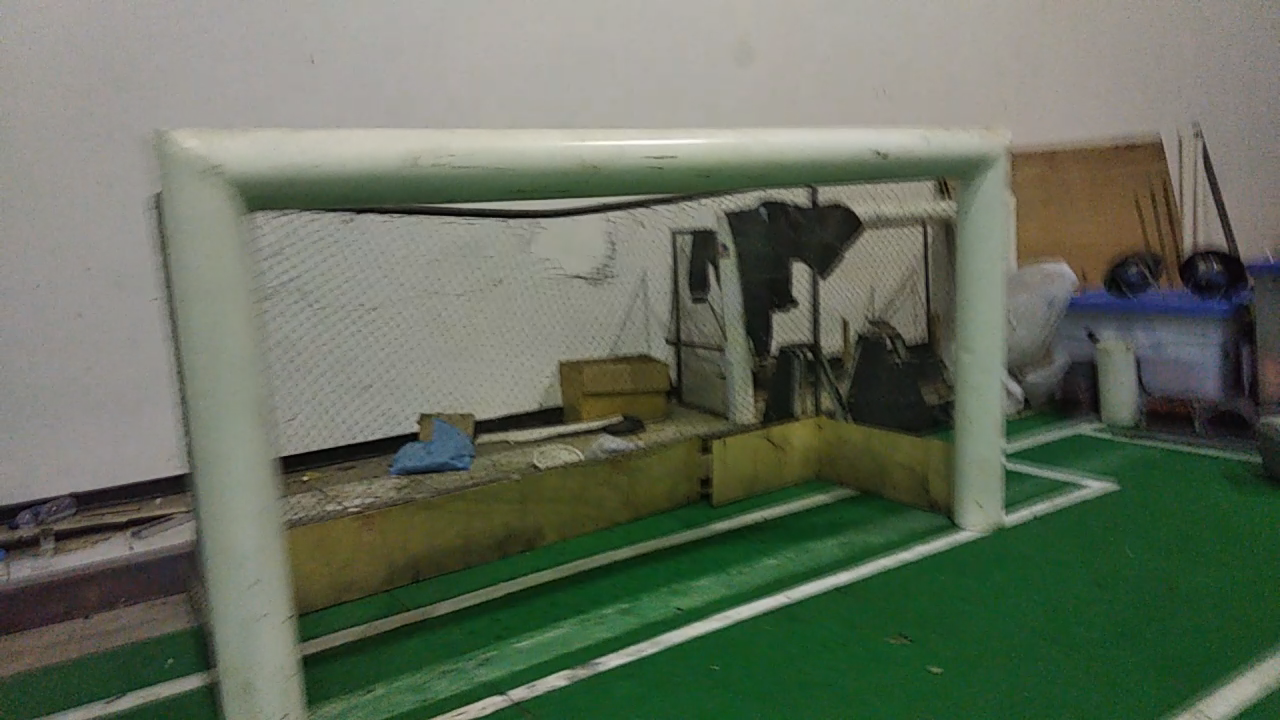gawang: (141, 108, 1019, 716)
